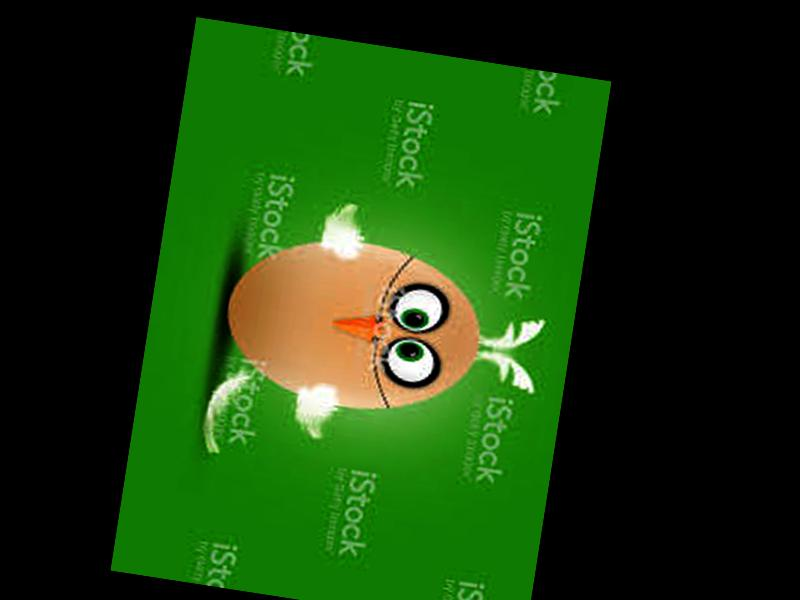Eggs: (213, 225, 492, 426)
